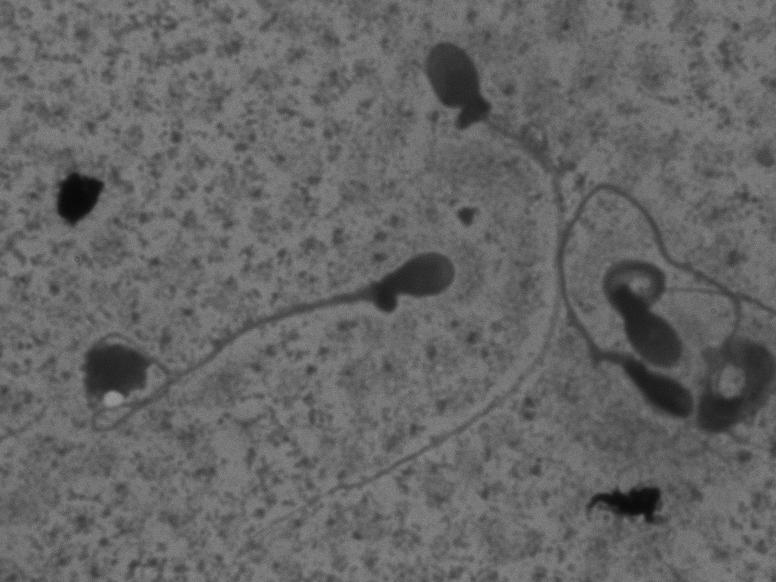Abnormal: (241, 30, 574, 551), (80, 219, 481, 441), (543, 171, 752, 440), (598, 231, 749, 368)
